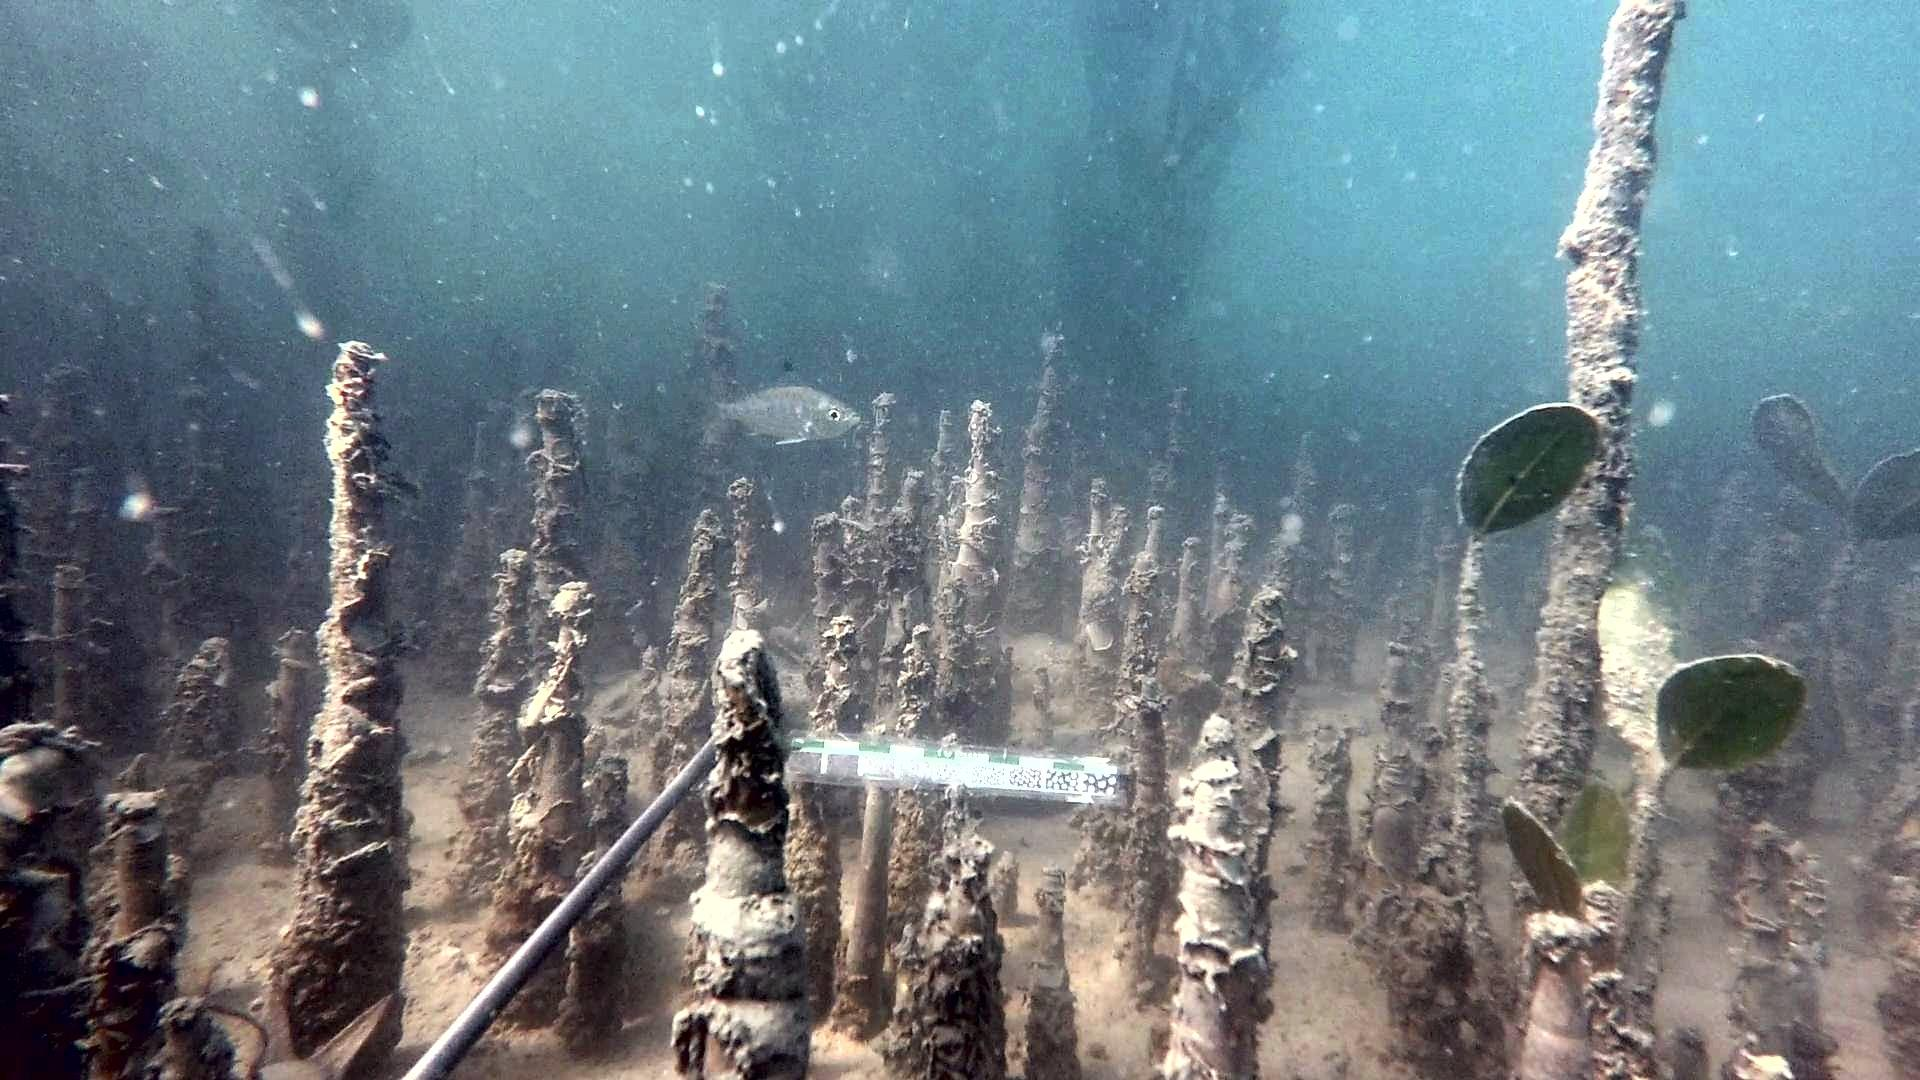gerres: (690, 357, 864, 447)
